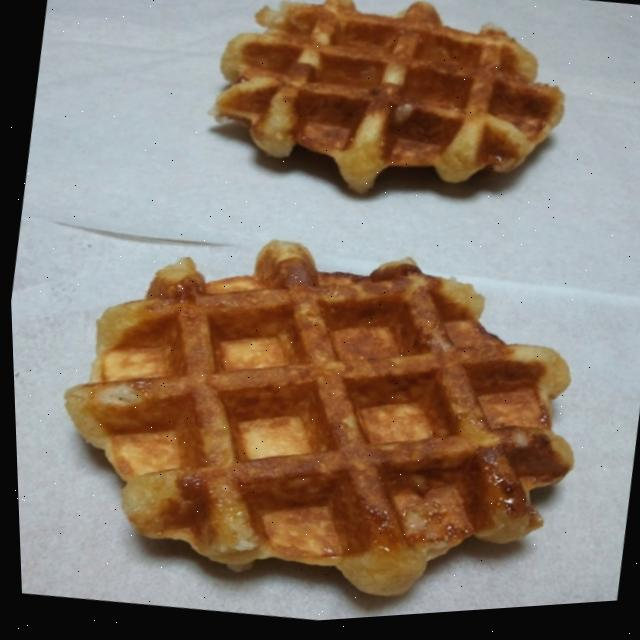熟制海鲜: (84, 0, 539, 175)
